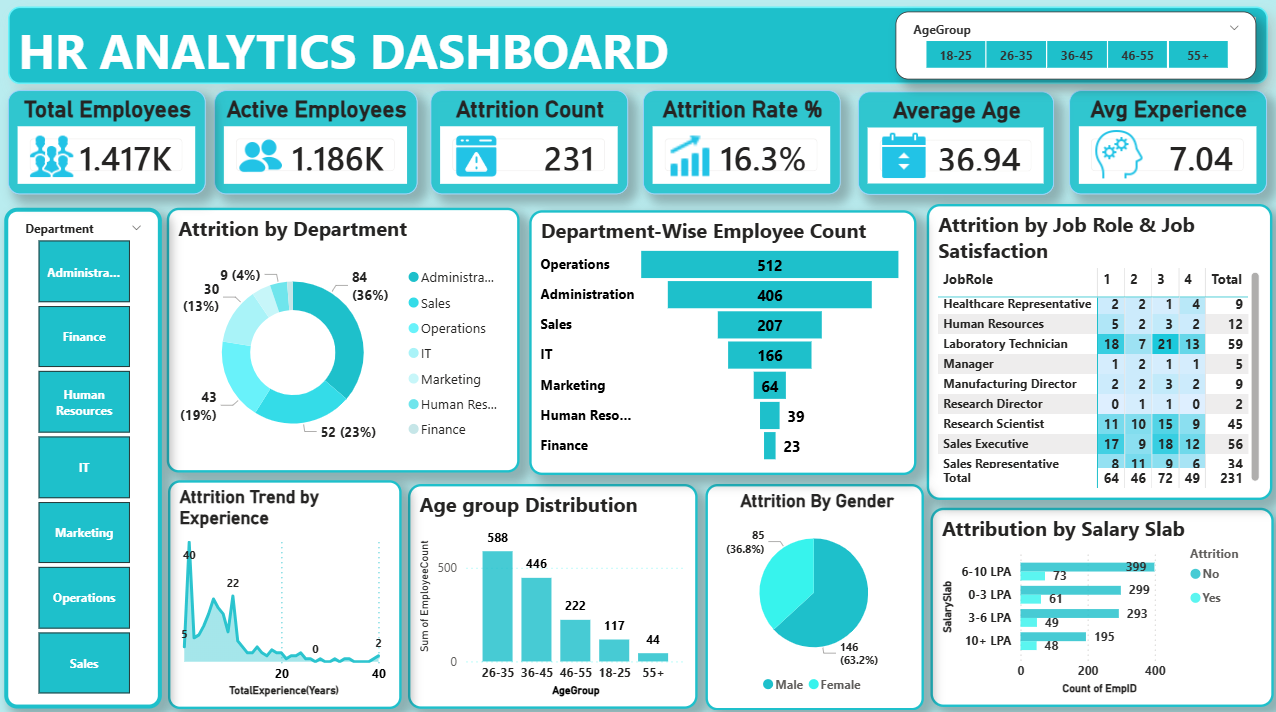

This screenshot's page, from the dashboard's own definition file:
{"tool":"powerbi","page":{"name":"dashboard","canvas":[1280,720],"ordinal":0},"visuals":[{"type":"textbox","box":[8.8,11.2,911.2,76.2],"z":0},{"type":"cardVisual","title":"Active Employees","fields":{"Data":["CountNonNull(HR_Analytics-4.EmployeeCount)"]},"box":[217.1,94.3,202.9,104.3],"z":1000},{"type":"cardVisual","title":"Attrition Count","fields":{"Data":["Sum(HR_Analytics-4.AttritionCount)"]},"box":[432.9,94.3,197.1,104.3],"z":2000},{"type":"cardVisual","title":"Attrition Rate %","fields":{"Data":["HR_Analytics-4.Attrition Rate %"]},"box":[644.3,94.3,198.6,104.3],"z":3000},{"type":"cardVisual","title":"Average Age","fields":{"Data":["Avg(HR_Analytics-4.Age)"]},"box":[858.8,93.8,197.5,103.8],"z":4000},{"type":"cardVisual","title":"Avg Experience","fields":{"Data":["Avg(HR_Analytics-4.YearsatCompany)"]},"box":[1071.4,92.9,198.6,104.3],"z":5000},{"type":"treemap","title":"Attrition by Department","fields":{"Group":["HR_Analytics-4.Department"],"Values":["Sum(HR_Analytics-4.AttritionCount)"]},"box":[567.4,211.6,352.2,264.1],"z":6000},{"type":"clusteredBarChart","title":"Attribution by Salary Slab","fields":{"Category":["HR_Analytics-4.SalarySlab"],"Y":["CountNonNull(HR_Analytics-4.EmpID)"],"Series":["HR_Analytics-4.Attrition"]},"box":[933.8,515,335,192.5],"z":7000},{"type":"pivotTable","title":"Attrition by Job Role & Job Satisfaction","fields":{"Rows":["HR_Analytics-4.JobRole"],"Values":["Sum(HR_Analytics-4.AttritionCount)"],"Columns":["HR_Analytics-4.JobSatisfaction"]},"box":[930,201.2,340,305],"z":8000},{"type":"columnChart","title":"Age group Distribution","fields":{"Category":["HR_Analytics-4.AgeGroup"],"Y":["Sum(HR_Analytics-4.EmployeeCount)"]},"box":[410.3,484.4,289.5,225],"z":9000},{"type":"pieChart","title":"Attrition By Gender","fields":{"Category":["HR_Analytics-4.Gender"],"Y":["Sum(HR_Analytics-4.AttritionCount)"]},"box":[706.2,485,218.8,226.2],"z":10000},{"type":"areaChart","title":"Attrition Trend by Experience","fields":{"Category":["HR_Analytics-4.TotalExperience(Years)"],"Y2":["Sum(HR_Analytics-4.AttritionCount)"]},"box":[170.2,481.6,233.3,229.2],"z":11000},{"type":"funnel","title":"Department-Wise Employee Count","fields":{"Category":["HR_Analytics-4.Department"],"Y":["CountNonNull(HR_Analytics-4.EmpID)"]},"box":[170,210.3,387.6,264.1],"z":12000},{"type":"slicer","fields":{"Values":["HR_Analytics-4.Department"]},"box":[10,208.9,154.4,500],"z":13000},{"type":"slicer","title":"Age Group","fields":{"Values":["HR_Analytics-4.AgeGroup"]},"box":[925,11.2,337.5,77.5],"z":14000},{"type":"cardVisual","title":"Total Employees","fields":{"Data":["CountNonNull(HR_Analytics-4.EmpID)"]},"box":[10,94.3,197.1,104.3],"z":15000},{"type":"image","box":[23.2,137,61.1,41.6],"z":16000},{"type":"image","box":[1078.5,137,63.6,42.8],"z":17000},{"type":"image","box":[868.8,137.5,63.8,41.2],"z":18000},{"type":"image","box":[654.2,135.7,63.6,42.8],"z":19000},{"type":"image","box":[454.9,141.8,57.5,34.2],"z":20000},{"type":"image","box":[233.6,134.5,52.6,41.6],"z":21000},{"type":"image","box":[11.2,15,98.8,63.8],"z":22000}]}

Visuals, with their boxes in screenshot pixels (x1, y1, x2, y2), scaled from the page's 1280x720 canvas onto the 1276x712 screenshot:
textbox: box(9, 11, 917, 86)
"Active Employees" cardVisual: box(216, 93, 419, 196)
"Attrition Count" cardVisual: box(432, 93, 628, 196)
"Attrition Rate %" cardVisual: box(642, 93, 840, 196)
"Average Age" cardVisual: box(856, 93, 1053, 195)
"Avg Experience" cardVisual: box(1068, 92, 1266, 195)
"Attrition by Department" treemap: box(566, 209, 917, 470)
"Attribution by Salary Slab" clusteredBarChart: box(931, 509, 1265, 700)
"Attrition by Job Role & Job Satisfaction" pivotTable: box(927, 199, 1266, 501)
"Age group Distribution" columnChart: box(409, 479, 698, 702)
"Attrition By Gender" pieChart: box(704, 480, 922, 703)
"Attrition Trend by Experience" areaChart: box(170, 476, 402, 703)
"Department-Wise Employee Count" funnel: box(169, 208, 556, 469)
slicer - HR_Analytics-4.Department: box(10, 207, 164, 701)
"Age Group" slicer: box(922, 11, 1259, 88)
"Total Employees" cardVisual: box(10, 93, 206, 196)
image: box(23, 135, 84, 177)
image: box(1075, 135, 1139, 178)
image: box(866, 136, 930, 177)
image: box(652, 134, 716, 177)
image: box(453, 140, 511, 174)
image: box(233, 133, 285, 174)
image: box(11, 15, 110, 78)
